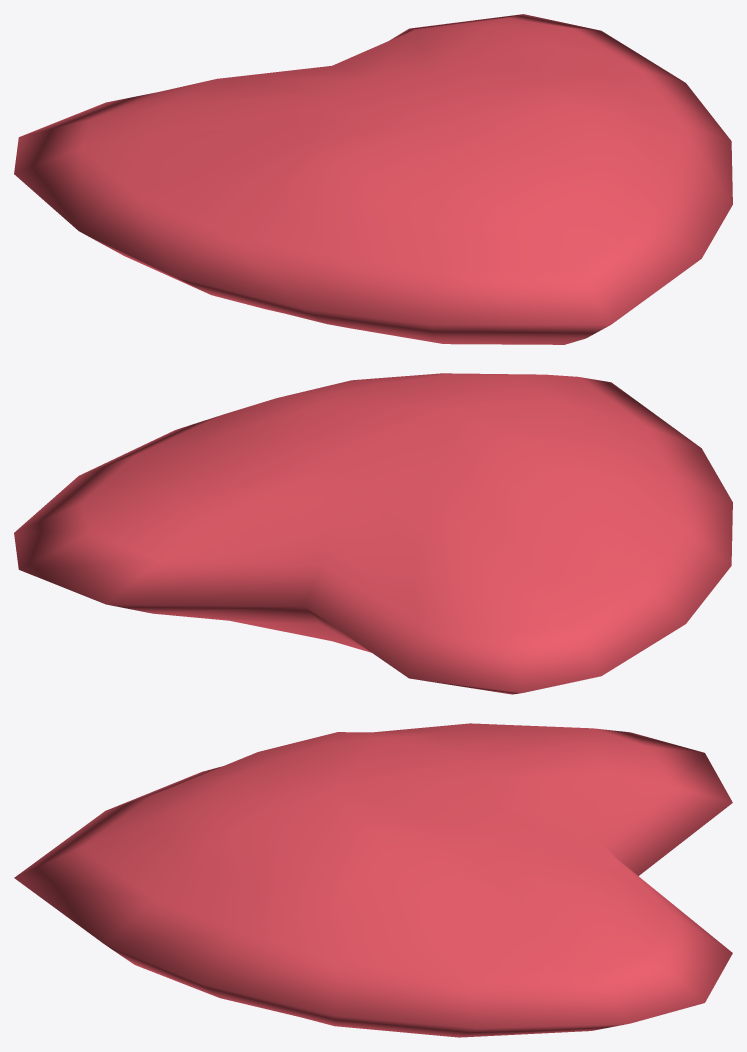
Rendered from coeur princesse.fbx.
The picture shows the model from 3 angles, top to bottom: view 1: azimuth 30°, elevation 25°; view 2: azimuth 150°, elevation 25°; view 3: azimuth 270°, elevation 25°; orthographic projection.
Parts seen in each view (by area): view 1: Sphere; view 2: Sphere; view 3: Sphere.
Boxes of the visible parts, x1,y1,x2,y2 form: Sphere: (14,14,732,344); Sphere: (14,373,732,694); Sphere: (14,723,732,1037).
Size of the model in its own units: 167 by 46.32 by 169.
